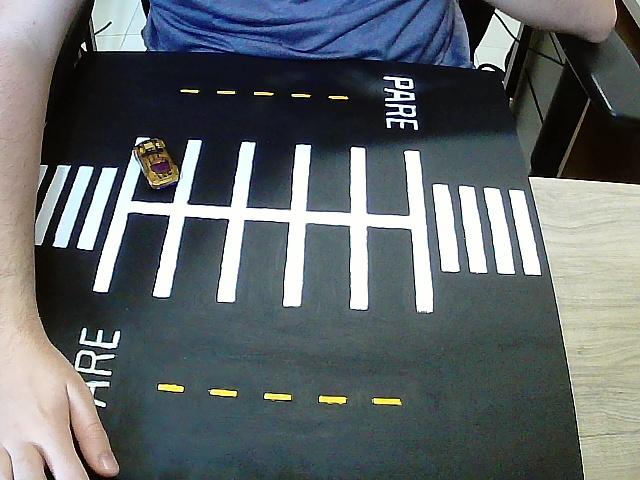Carro: (133, 138, 179, 190)
